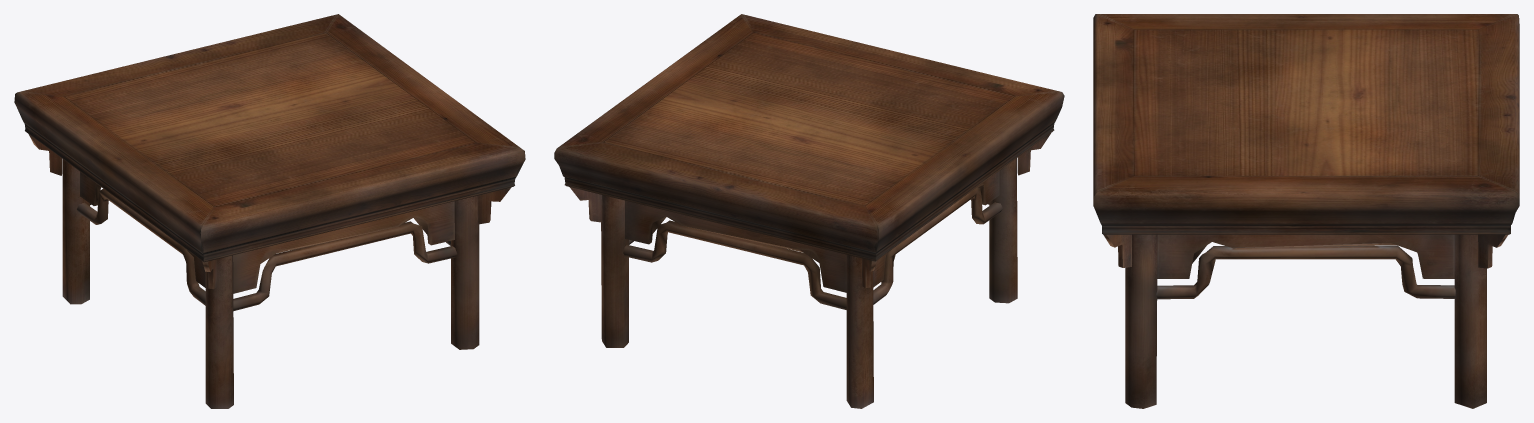
File: chinese_tea_table_lod2.glb
The picture shows the model from 3 angles, left to right: view 1: azimuth 30°, elevation 25°; view 2: azimuth 150°, elevation 25°; view 3: azimuth 270°, elevation 25°; orthographic projection. The views are drawn at different scales.
Visible parts, largest first — view 1: chinese_tea_table; view 2: chinese_tea_table; view 3: chinese_tea_table.
Part boxes in pixels (x1=…): chinese_tea_table: x1=14, y1=14, x2=525, y2=408; chinese_tea_table: x1=554, y1=14, x2=1064, y2=408; chinese_tea_table: x1=1093, y1=14, x2=1519, y2=408.
Size of the model in its own units: 0.8405 by 0.4986 by 0.8348.
Materials: 1 (1 with a texture image).
